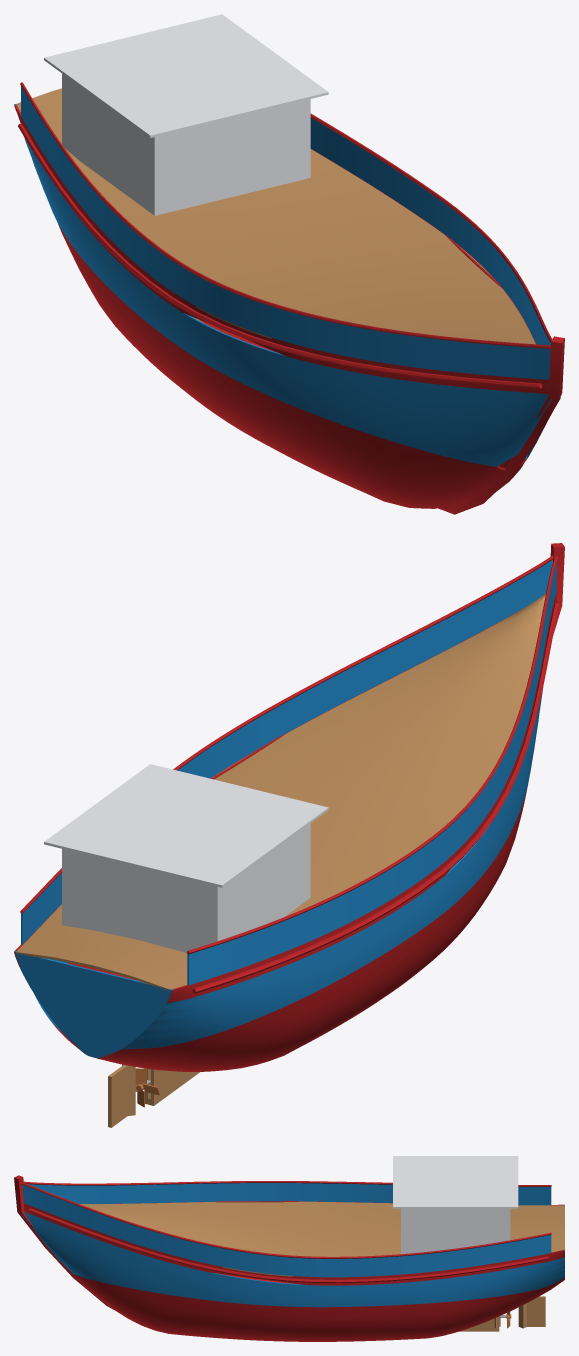
Rendered from ghe_vung_tau.mid.glb.
3 views of the same model, one above another, from view 1: azimuth 30°, elevation 25°; view 2: azimuth 150°, elevation 25°; view 3: azimuth 270°, elevation 25° (orthographic). The views are drawn at different scales.
Visible parts, largest first — view 1: ghe_vung_tau; view 2: ghe_vung_tau, rudder; view 3: ghe_vung_tau, rudder.
Part boxes in pixels (<box>): ghe_vung_tau: <box>14,14,564,514</box>; ghe_vung_tau: <box>14,543,564,1105</box>; rudder: <box>108,1064,135,1127</box>; ghe_vung_tau: <box>14,1156,564,1341</box>; rudder: <box>518,1296,545,1328</box>.
Size of the model in its own units: 7.04 by 6.42 by 20.87.
